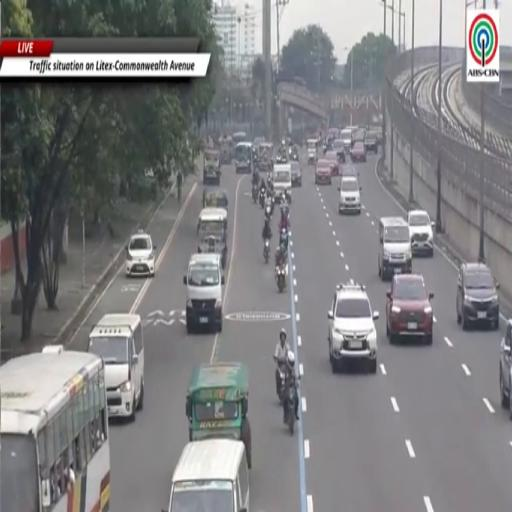bus: (0, 346, 110, 511)
car: (328, 283, 378, 373), (387, 274, 434, 344), (456, 263, 499, 330), (126, 230, 155, 277), (408, 210, 434, 257), (500, 319, 511, 420), (339, 176, 361, 214), (315, 159, 332, 184), (324, 151, 339, 175), (351, 141, 366, 162), (364, 131, 378, 153), (333, 139, 345, 164), (291, 162, 302, 186), (340, 165, 359, 178), (353, 127, 366, 145)
jeepney: (186, 362, 251, 468), (197, 207, 227, 268), (203, 150, 221, 185), (203, 188, 228, 211), (236, 142, 253, 173), (259, 142, 273, 171), (219, 137, 233, 165), (233, 132, 248, 146), (254, 137, 265, 149)
motorcycle: (286, 386, 296, 435), (277, 364, 285, 404), (276, 266, 286, 293), (280, 228, 288, 249), (264, 239, 270, 263), (259, 189, 266, 209), (265, 202, 272, 219), (252, 184, 258, 203), (292, 153, 299, 162)
